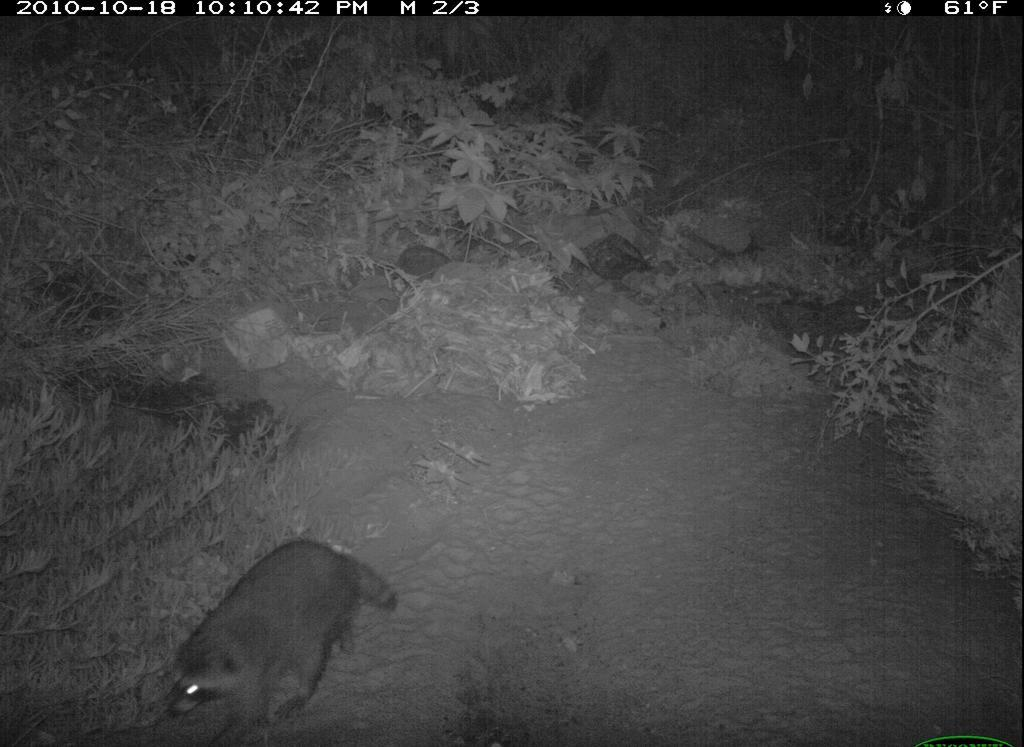raccoon: (133, 527, 417, 746)
